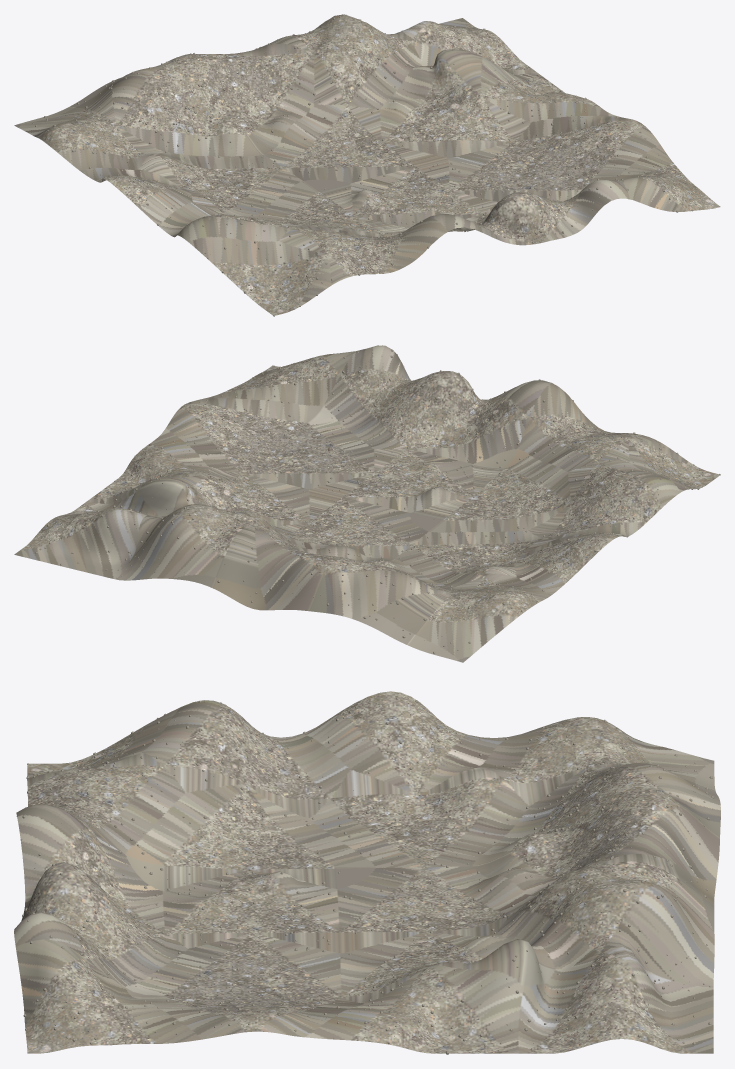
Rendered from Level.fbx.
3 views of the same model, one above another, from view 1: azimuth 30°, elevation 25°; view 2: azimuth 150°, elevation 25°; view 3: azimuth 270°, elevation 25° (orthographic). The views are drawn at different scales.
Visible parts, largest first — view 1: Chão; view 2: Chão; view 3: Chão.
Boxes of the visible parts, x1,y1,x2,y2 form: Chão: [14, 14, 720, 315]; Chão: [14, 345, 719, 662]; Chão: [14, 691, 720, 1053].
Size of the model in its own units: 83158 by 9717 by 79593.
